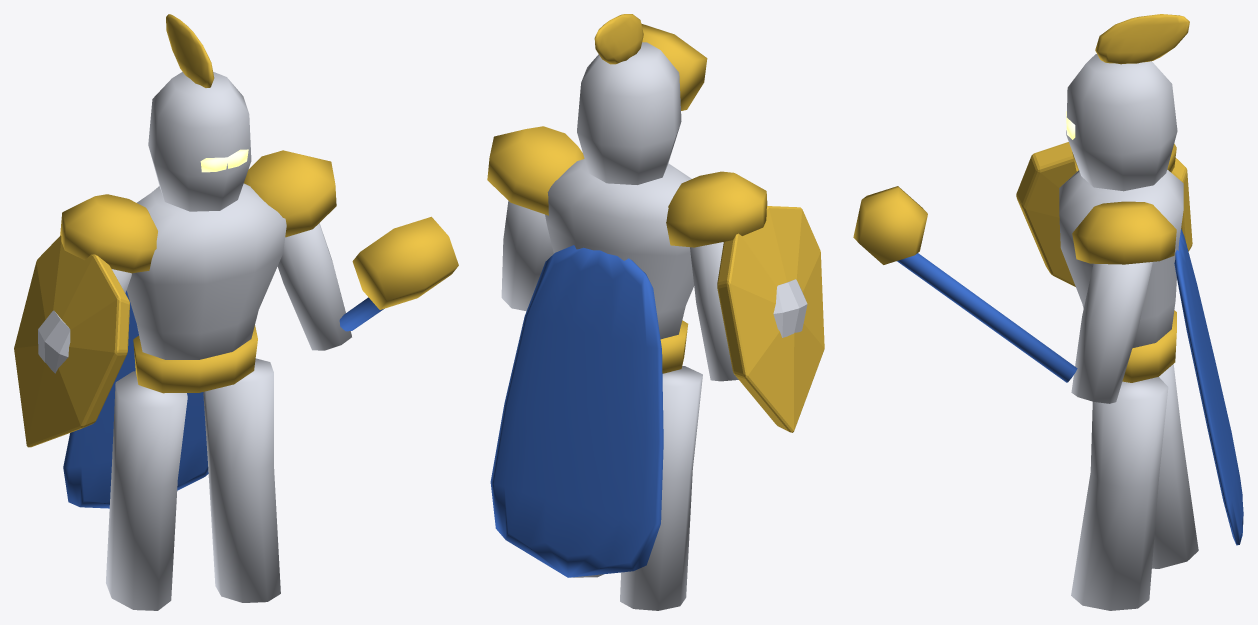
File: paladin.glb
3 views of the same model, side by side, from view 1: azimuth 30°, elevation 25°; view 2: azimuth 150°, elevation 25°; view 3: azimuth 270°, elevation 25° (orthographic).
Parts seen in each view (by area): view 1: Chestplate, HolyShield, Leg_L, Leg_R, Helm, RoyalCape, HammerHead, Pauldron_-0.32, Arm_R, Pauldron_0.32, WaistBelt, Plume (+3 smaller); view 2: RoyalCape, HolyShield, Chestplate, Helm, Leg_L, Pauldron_-0.32, Pauldron_0.32, Arm_R, Arm_L, HammerHead, Plume, HolyShield_Boss (+1 smaller); view 3: Leg_R, Helm, Arm_R, Chestplate, RoyalCape, Pauldron_0.32, HolyShield, Leg_L, HammerHead, HammerHaft, Plume, WaistBelt.
Part boxes in pixels (bbox=[...]): Chestplate: bbox=[126, 183, 286, 359]; HolyShield: bbox=[14, 235, 129, 447]; Leg_L: bbox=[106, 371, 187, 610]; Leg_R: bbox=[203, 358, 280, 602]; Helm: bbox=[148, 71, 251, 211]; RoyalCape: bbox=[63, 290, 208, 508]; HammerHead: bbox=[352, 216, 458, 309]; Pauldron_-0.32: bbox=[60, 194, 157, 273]; Arm_R: bbox=[277, 223, 351, 350]; Pauldron_0.32: bbox=[244, 150, 336, 237]; WaistBelt: bbox=[133, 325, 257, 393]; Plume: bbox=[166, 14, 214, 87]; RoyalCape: bbox=[490, 245, 663, 577]; HolyShield: bbox=[717, 206, 824, 432]; Chestplate: bbox=[545, 159, 694, 339]; Helm: bbox=[577, 42, 681, 184]; Leg_L: bbox=[620, 366, 702, 610]; Pauldron_-0.32: bbox=[666, 171, 767, 247]; Pauldron_0.32: bbox=[487, 126, 584, 215]; Arm_R: bbox=[501, 201, 553, 311]; Arm_L: bbox=[690, 242, 738, 381]; HammerHead: bbox=[641, 23, 707, 110]; Plume: bbox=[594, 14, 643, 64]; HolyShield_Boss: bbox=[773, 279, 807, 337]; Leg_R: bbox=[1071, 377, 1168, 610]; Helm: bbox=[1066, 54, 1177, 191]; Arm_R: bbox=[1071, 262, 1152, 403]; Chestplate: bbox=[1059, 170, 1183, 348]; RoyalCape: bbox=[1174, 228, 1243, 545]; Pauldron_0.32: bbox=[1072, 201, 1176, 264]; HolyShield: bbox=[1016, 142, 1192, 286]; Leg_L: bbox=[1152, 364, 1198, 568]; HammerHead: bbox=[853, 186, 927, 264]; HammerHaft: bbox=[897, 253, 1077, 382]; Plume: bbox=[1095, 14, 1189, 64]; WaistBelt: bbox=[1122, 310, 1176, 382].
Size of the model in its own units: 1.08 by 1.91 by 1.19.
Materials: 4 (4 with a texture image).
